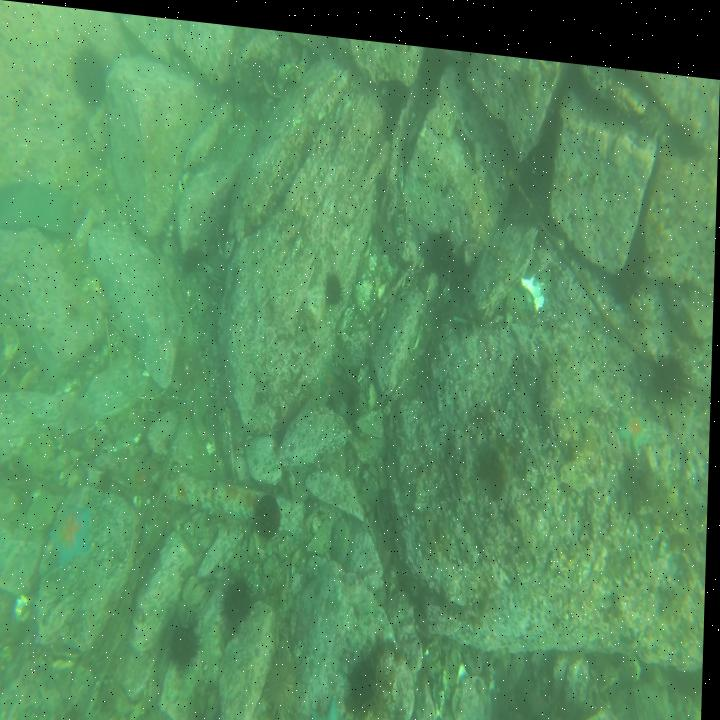echinus: (264, 642, 304, 720), (70, 34, 108, 105), (654, 329, 696, 393), (170, 612, 212, 672), (224, 569, 258, 632), (640, 86, 679, 132), (257, 483, 286, 538), (322, 256, 350, 306), (180, 239, 207, 274), (144, 695, 180, 720), (578, 717, 630, 720)
scallop: (519, 257, 549, 307)
starfish: (52, 494, 99, 572), (619, 389, 656, 440), (315, 681, 362, 720)
